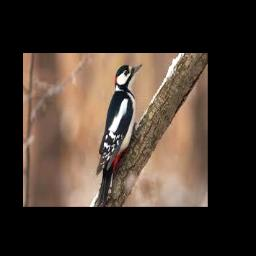Woodpecker: (97, 63, 143, 207)
